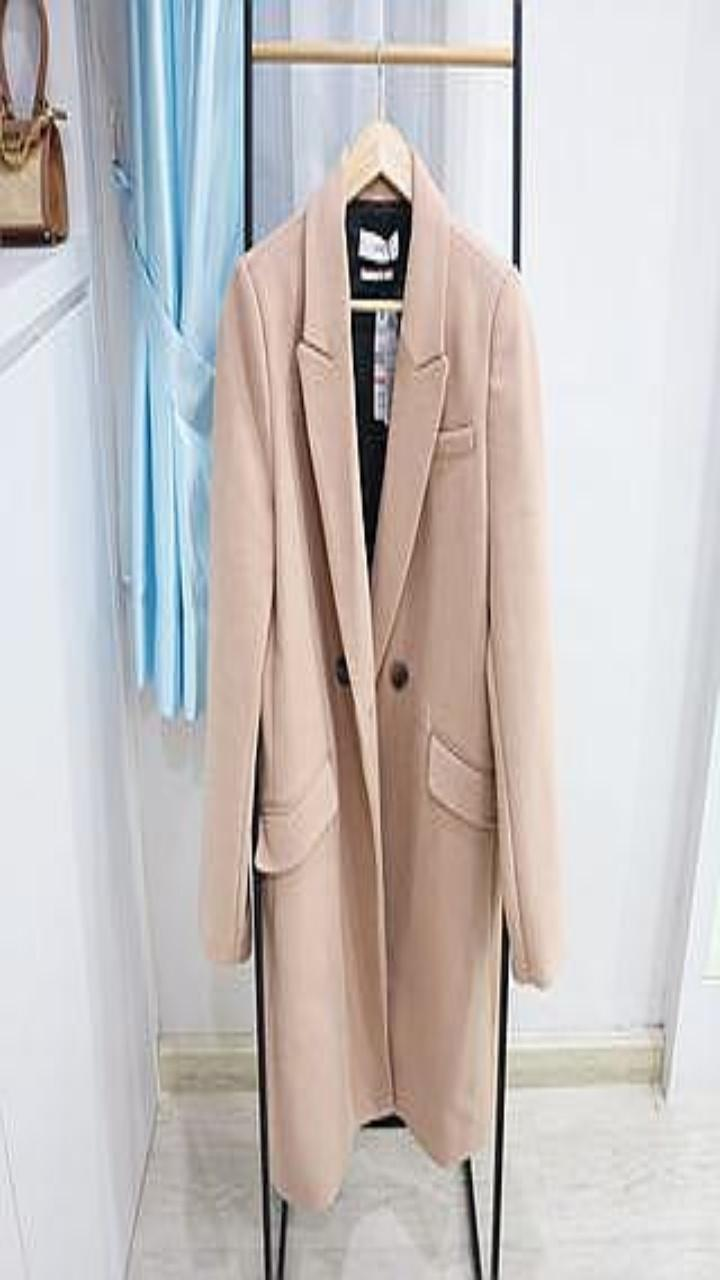Coat: (199, 150, 563, 1207)
